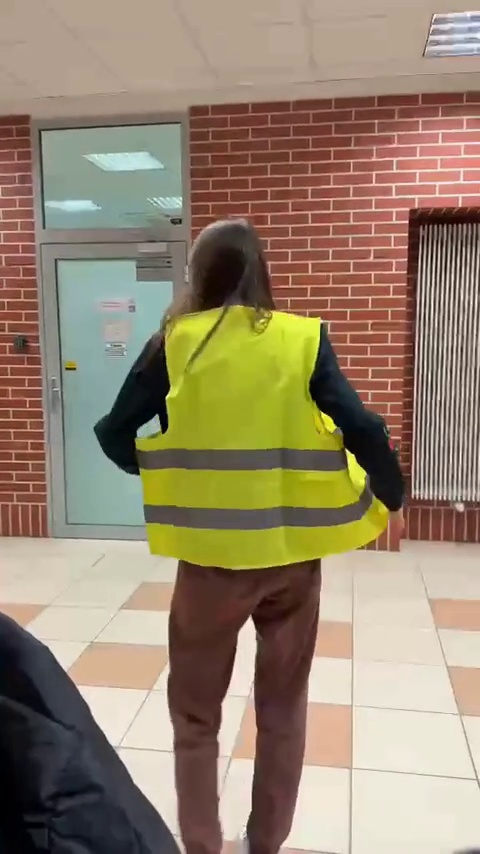vest: (92, 223, 414, 854)
